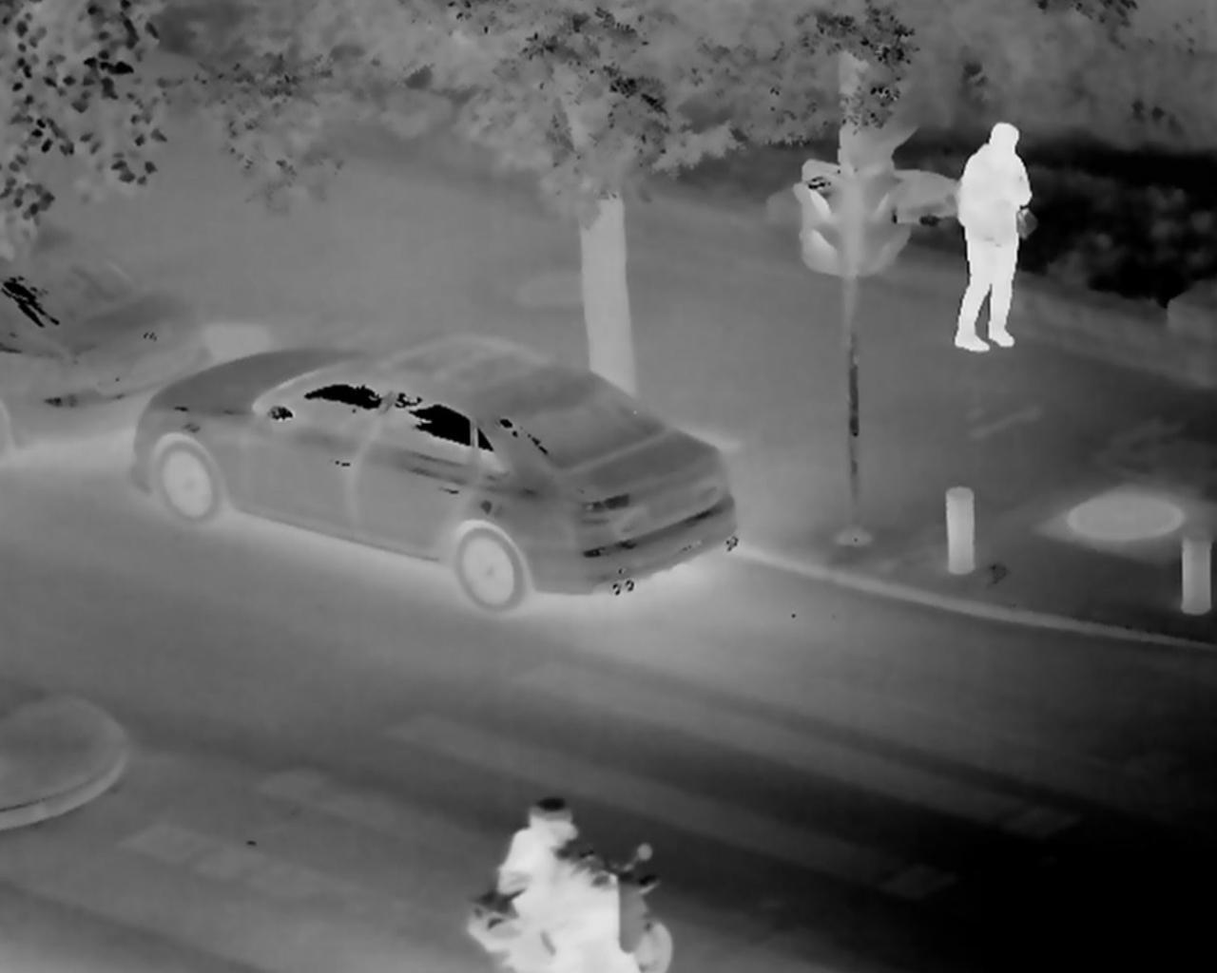person: (479, 787, 628, 973), (953, 107, 1033, 364)
